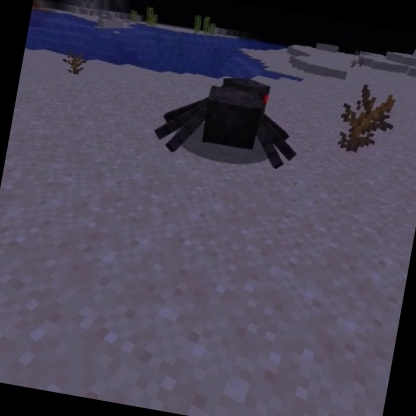spider: (147, 61, 311, 177)
